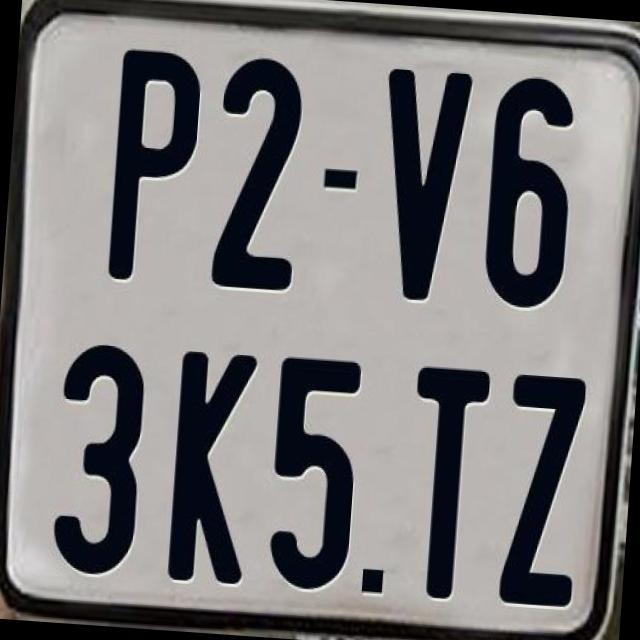2: (210, 52, 310, 296)
3: (48, 342, 154, 586)
5: (266, 352, 370, 594)
6: (478, 73, 582, 318)
K: (167, 348, 259, 584)
P: (106, 44, 204, 284)
T: (400, 360, 496, 600)
V: (368, 68, 469, 310)
Z: (496, 369, 590, 609)
